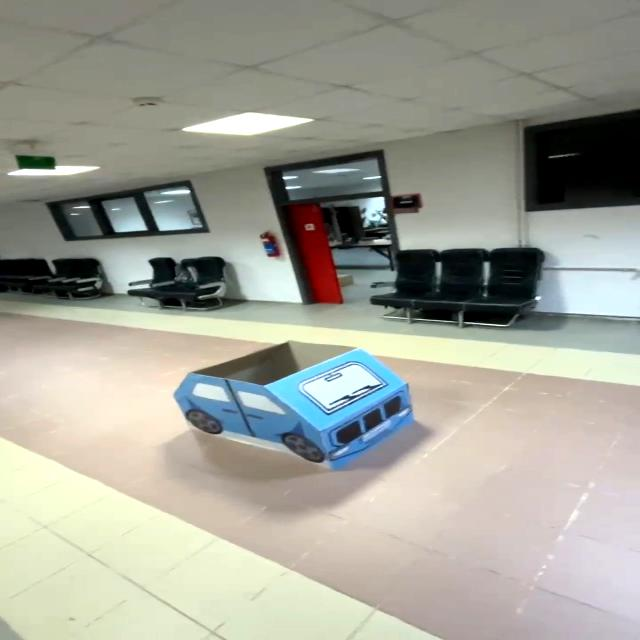blue_car: (137, 327, 441, 501)
